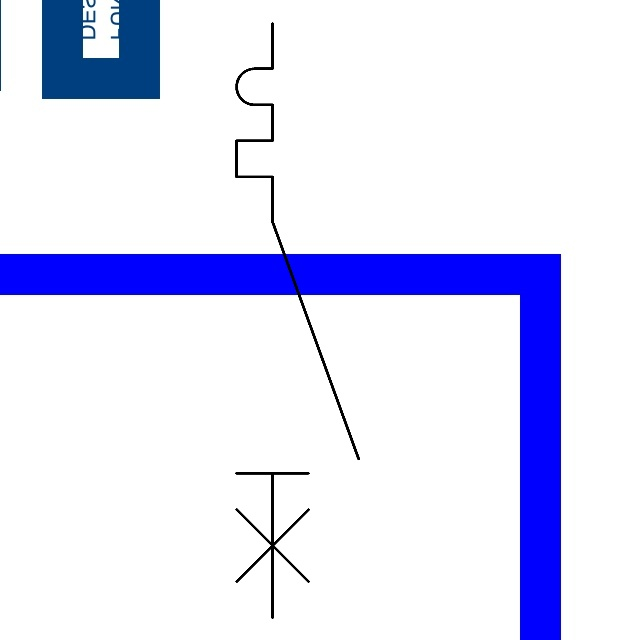interruptor_termomagnetico: (221, 8, 374, 633)
